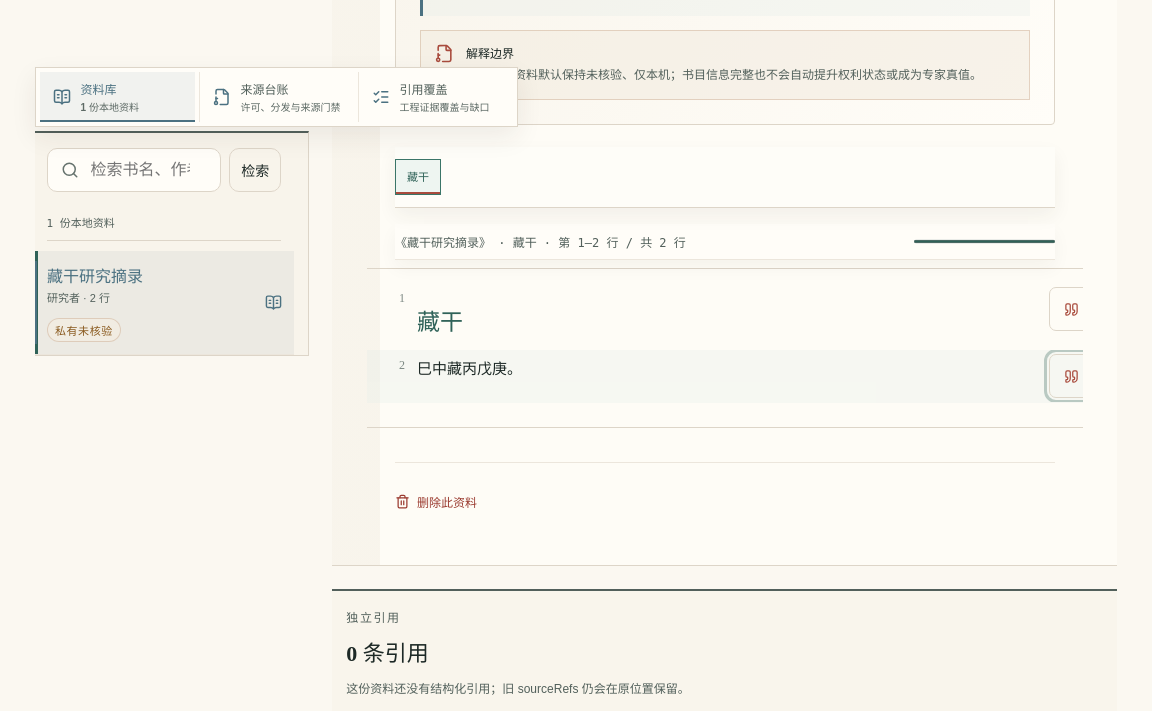
KnowledgePage › 只在合法研究目标上下文中建立带 targets 的候选引用
Later steps or results of the test are not shown.
(page scrolled)
Step 1. Click the button named "引用第 2 行" → (1071, 376), box [1049,354,1093,398]
(page scrolled)
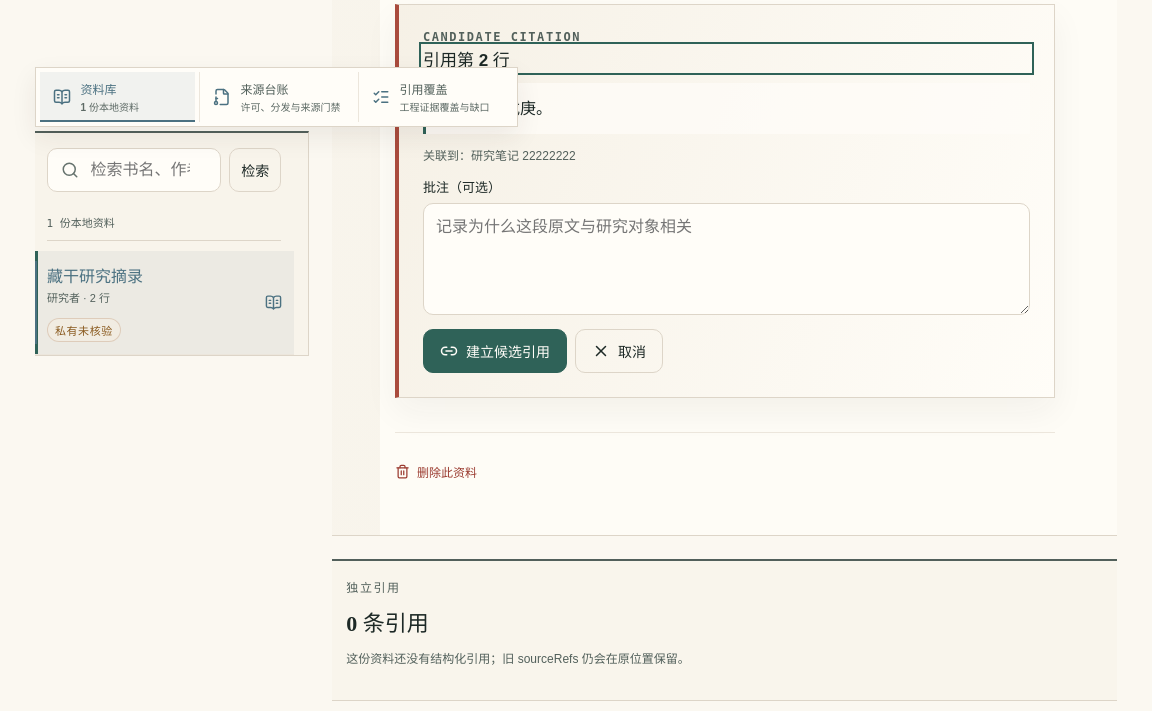
Step 2. Click the button "取消" → (619, 351), box [575,329,663,373]
(page scrolled)
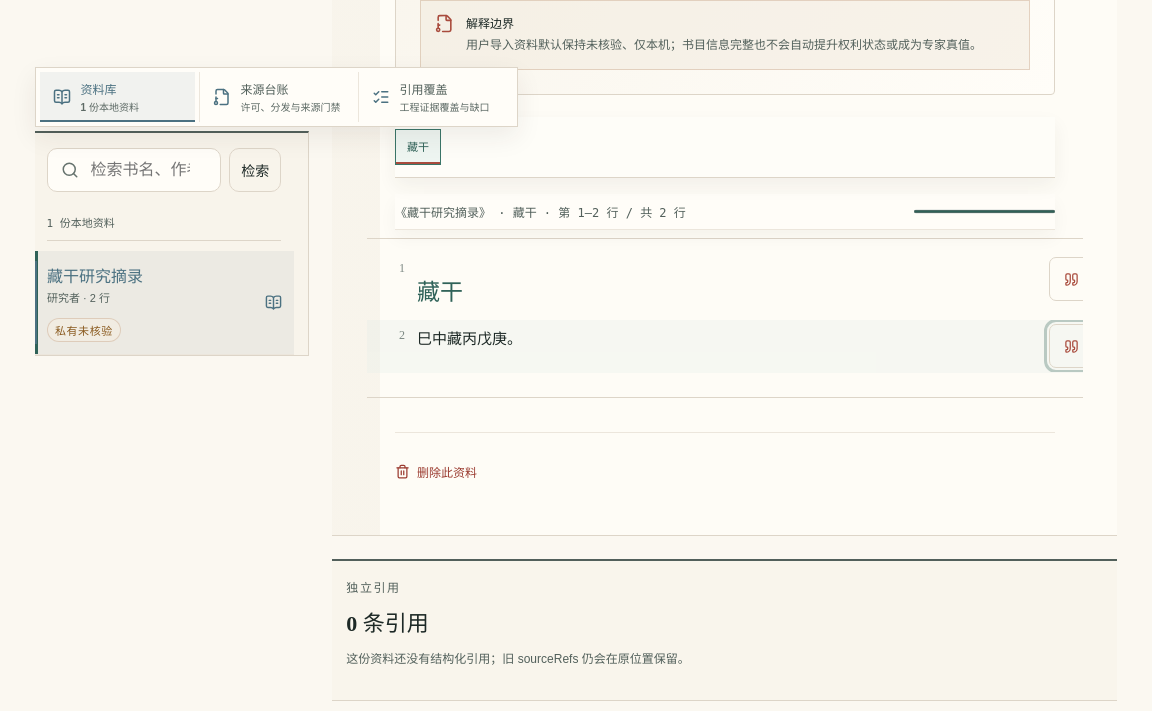
Result: the button named "引用第 2 行" is collapsed at [1049,324,1093,368]
